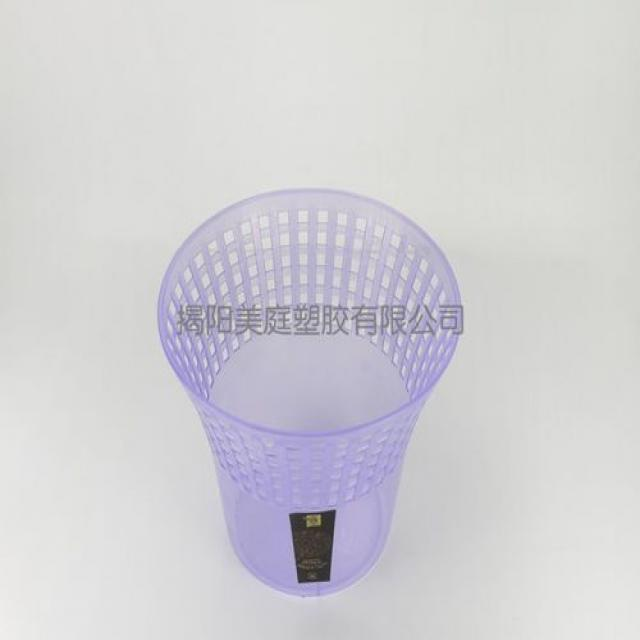Dustbin: (155, 182, 465, 602)
